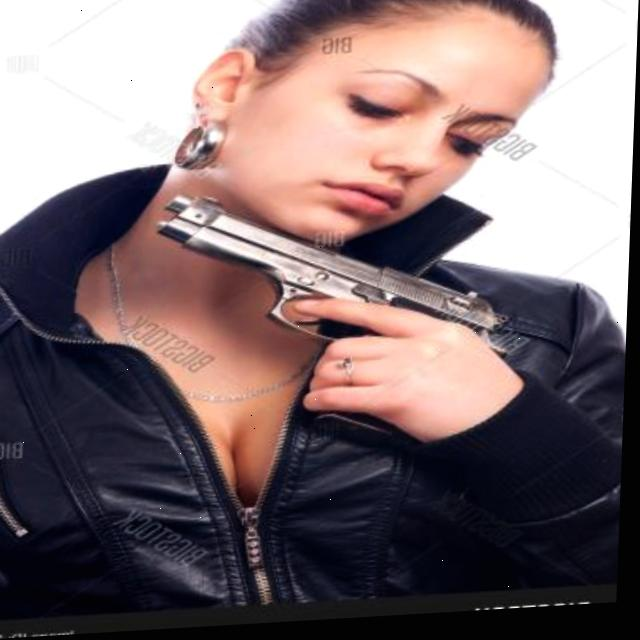pistol: (115, 194, 533, 471)
